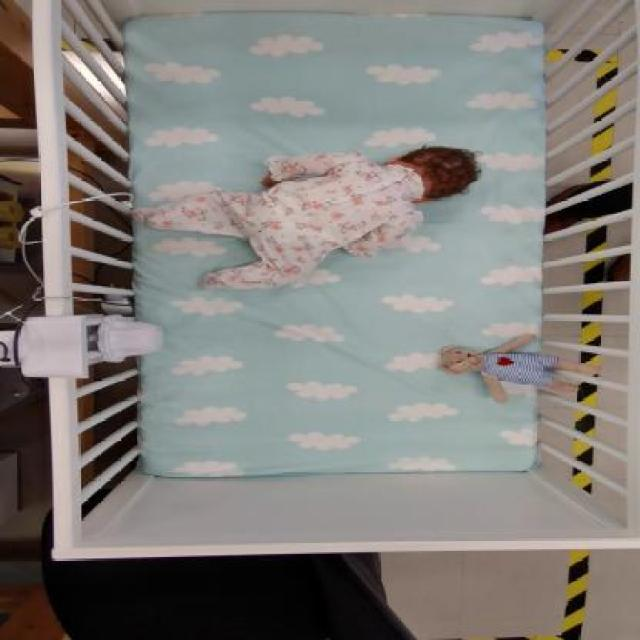baby: (135, 144, 483, 292)
